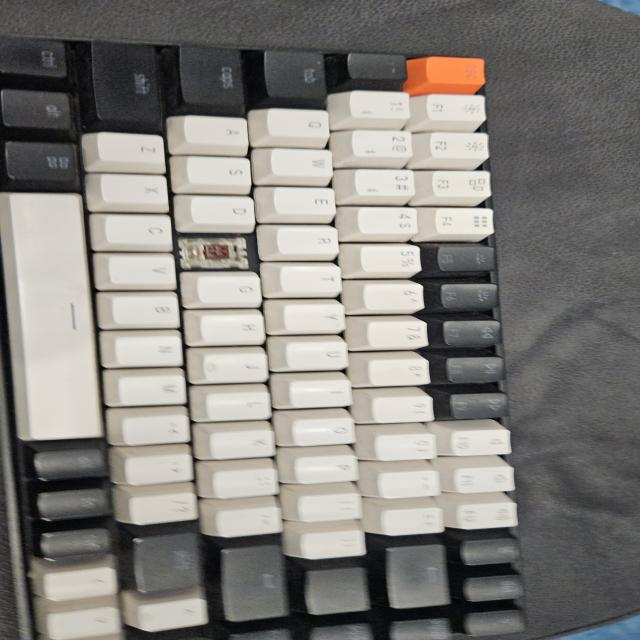C: (176, 235, 265, 274)
